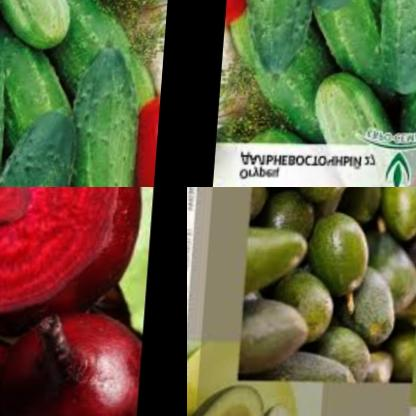avocado: (314, 212, 378, 318), (238, 213, 323, 286), (242, 296, 324, 357), (352, 267, 414, 346), (283, 342, 373, 388), (380, 221, 416, 311), (187, 381, 263, 416), (373, 187, 416, 232), (297, 187, 378, 203)
beet: (0, 187, 153, 335), (0, 313, 147, 416)
cucumber: (219, 0, 342, 161), (68, 31, 165, 187), (49, 0, 172, 123), (318, 53, 416, 187), (0, 90, 97, 187), (225, 0, 322, 88), (241, 129, 371, 187), (0, 0, 74, 66)
